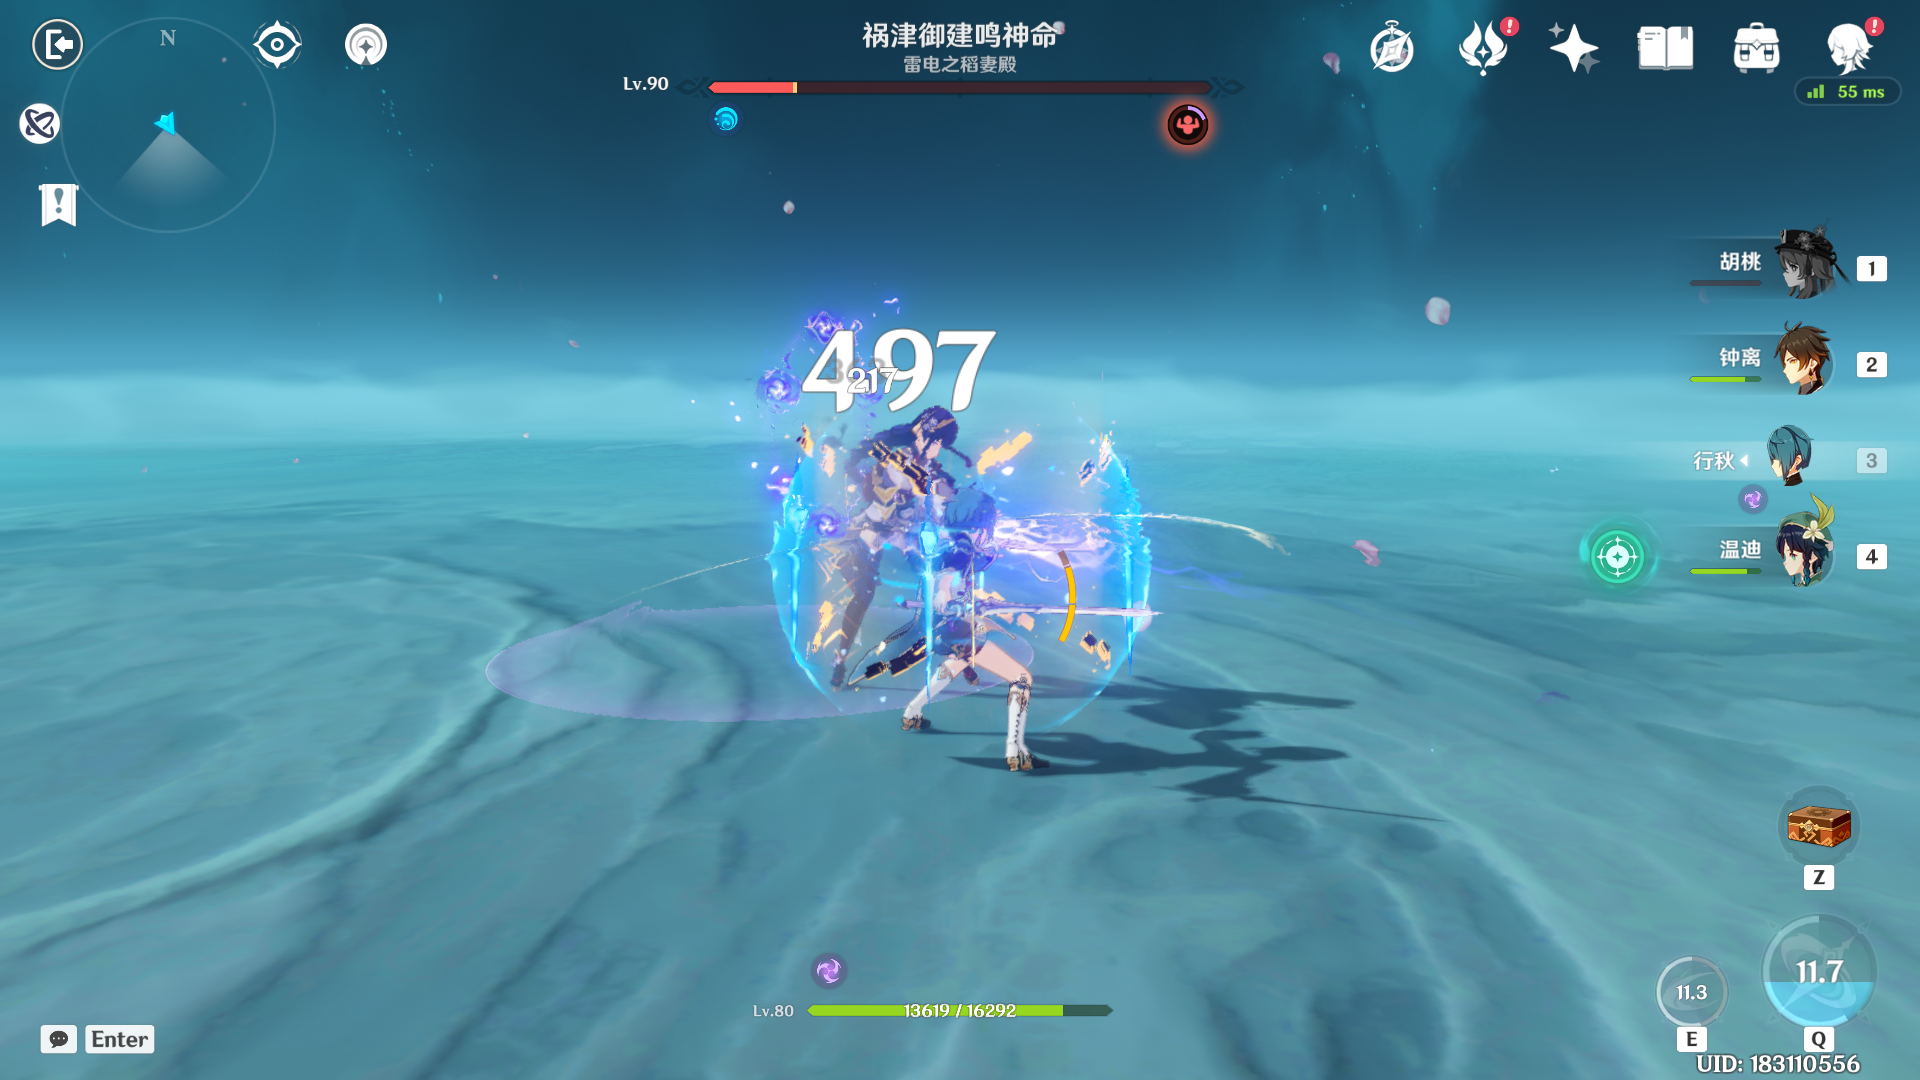character: (869, 473, 1073, 835), (786, 363, 982, 705)
